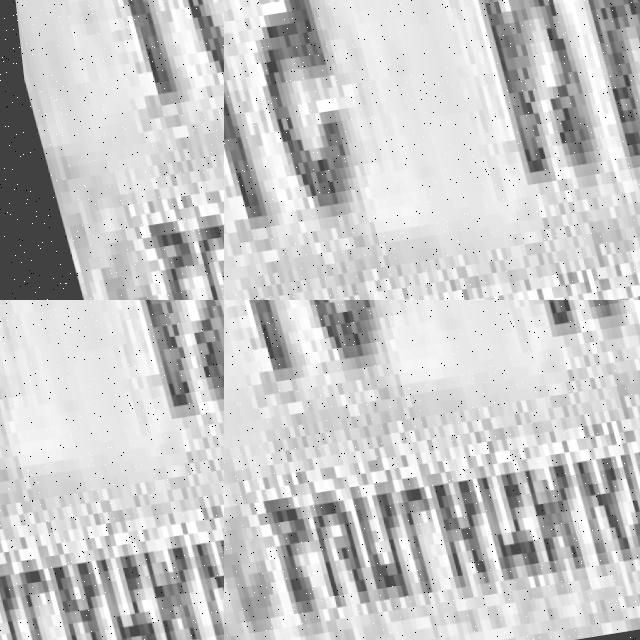license-plate: (224, 300, 640, 640), (224, 0, 640, 300), (0, 300, 224, 640), (124, 0, 224, 265)
